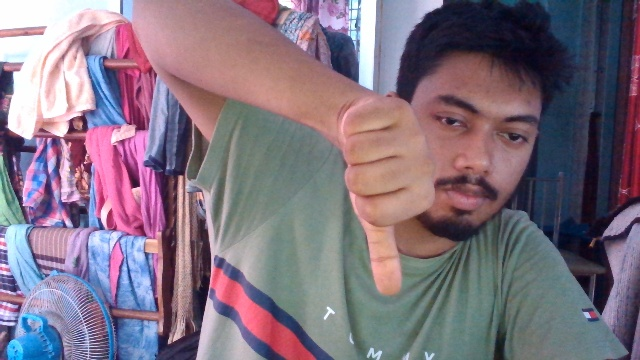no: (323, 69, 439, 299)
